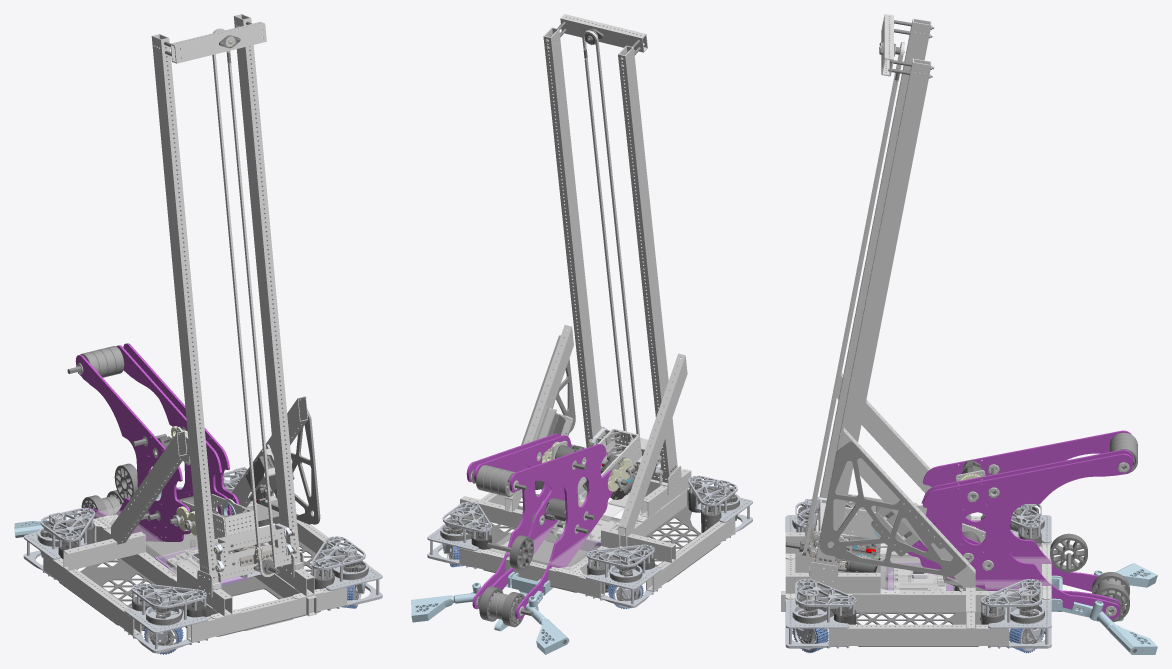
File: robot-2025.glb
3 renders of one model, left to right at view 1: azimuth 30°, elevation 25°; view 2: azimuth 150°, elevation 25°; view 3: azimuth 270°, elevation 25°, orthographic. The views are drawn at different scales.
Visible parts, largest first — view 1: am-3000a National Instruments roboRIO 2, Part 1; view 2: am-3000a National Instruments roboRIO 2, Part 1; view 3: am-3000a National Instruments roboRIO 2, Part 1.
Boxes of the visible parts, left/top/right/bottom form: am-3000a National Instruments roboRIO 2: left=14, top=14, right=382, bottom=654; Part 1: left=95, top=496, right=199, bottom=576; am-3000a National Instruments roboRIO 2: left=411, top=14, right=752, bottom=654; Part 1: left=490, top=495, right=646, bottom=569; am-3000a National Instruments roboRIO 2: left=781, top=14, right=1157, bottom=654; Part 1: left=881, top=543, right=1051, bottom=589.
Bounding box in the file's own units: 0.7112 × 1.72 × 1.01.
3 materials, 3 textured.
